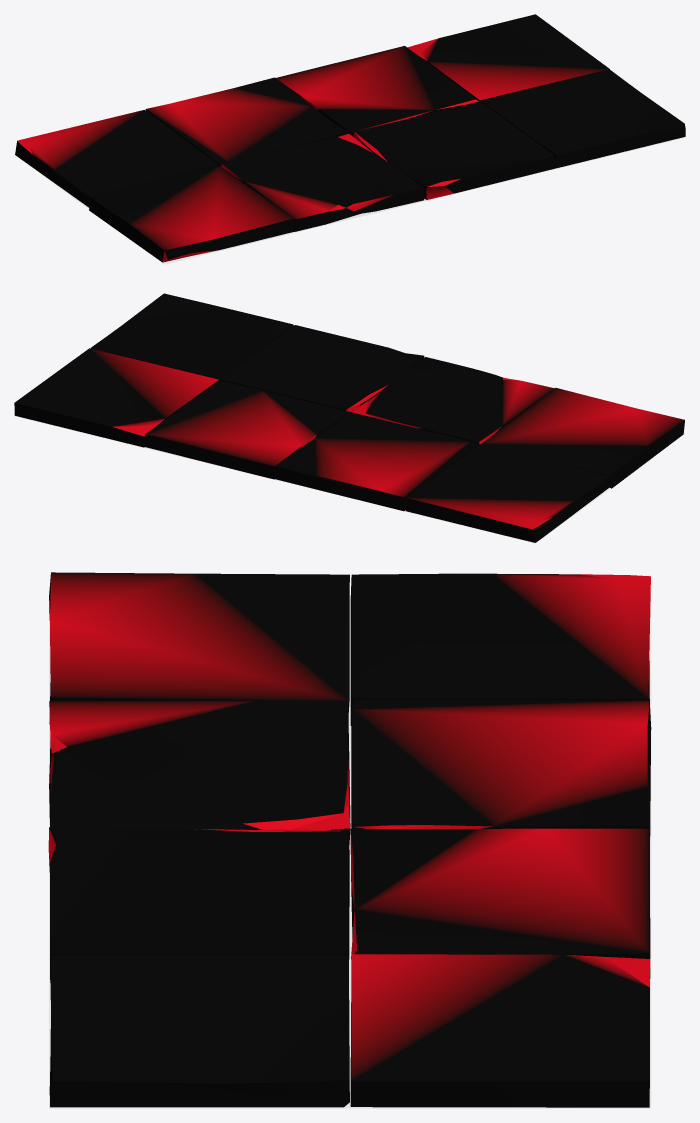
File: SM_Ground_Goth_Half.fbx
3 views of the same model, one above another, from view 1: azimuth 30°, elevation 25°; view 2: azimuth 150°, elevation 25°; view 3: azimuth 270°, elevation 25° (orthographic). The views are drawn at different scales.
Visible parts, largest first — view 1: SM_Ground_Goth_Half; view 2: SM_Ground_Goth_Half; view 3: SM_Ground_Goth_Half.
Boxes of the visible parts, <box> form: SM_Ground_Goth_Half: <box>14,14,685,264</box>; SM_Ground_Goth_Half: <box>14,293,685,543</box>; SM_Ground_Goth_Half: <box>48,572,651,1108</box>.
Size of the model in its own units: 400 by 200 by 11.14.
